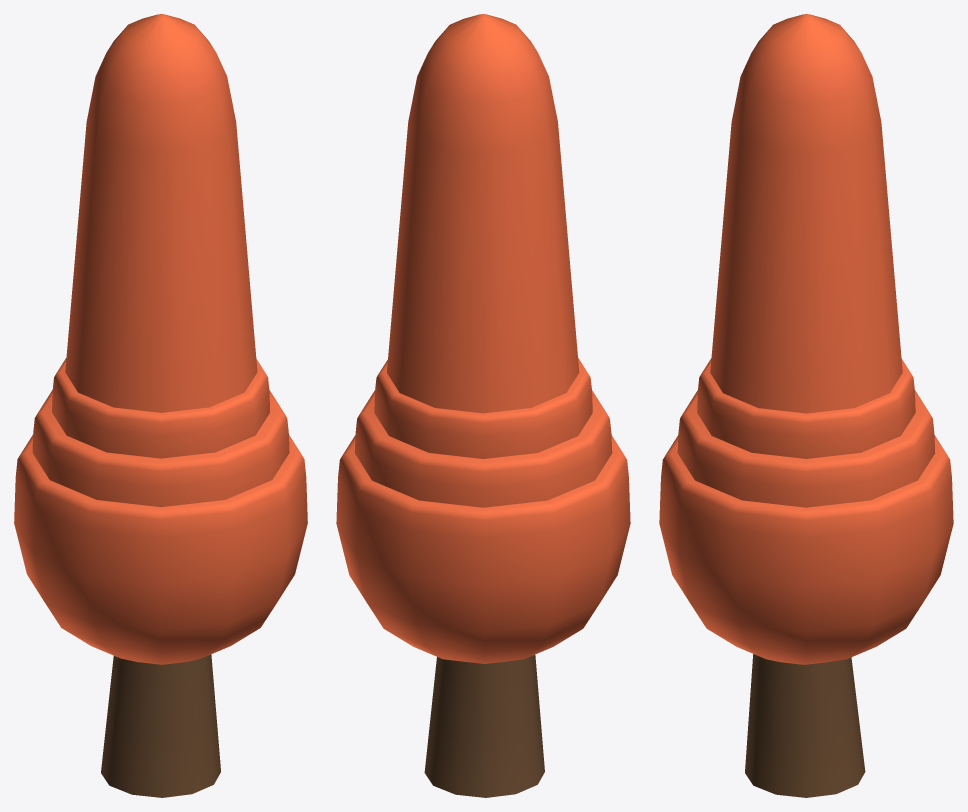
The model's file is tree-07.glb.
3 views of the same model, side by side, from view 1: azimuth 30°, elevation 25°; view 2: azimuth 150°, elevation 25°; view 3: azimuth 270°, elevation 25° (orthographic).
Parts seen in each view (by area): view 1: tree 07; view 2: tree 07; view 3: tree 07.
Part boxes in pixels (box(x1,y1,x2,y2)): tree 07: box(14, 14, 307, 797); tree 07: box(336, 14, 630, 797); tree 07: box(659, 14, 953, 797).
Bounding box in the file's own units: 1.08 × 3.07 × 1.08.
Materials: 1 (1 with a texture image).
